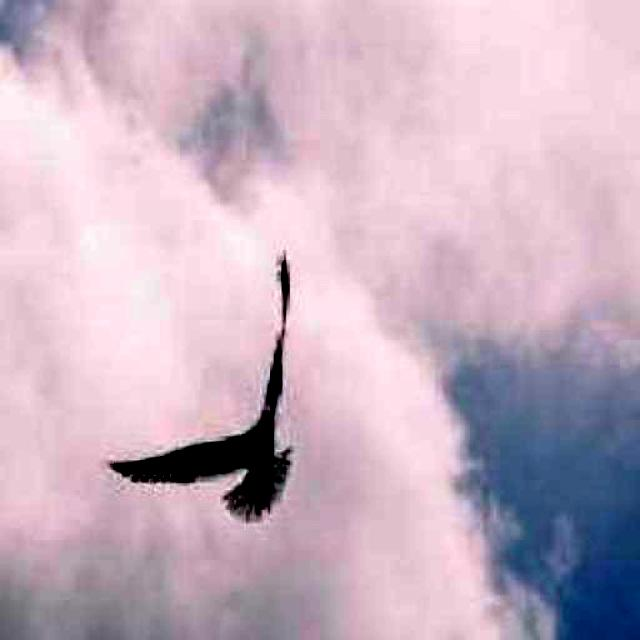airplane: (108, 252, 294, 524)
